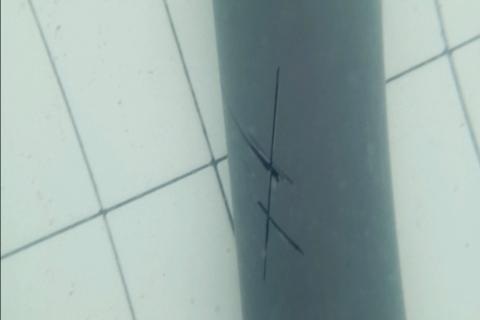keretakan: (228, 65, 307, 285)
